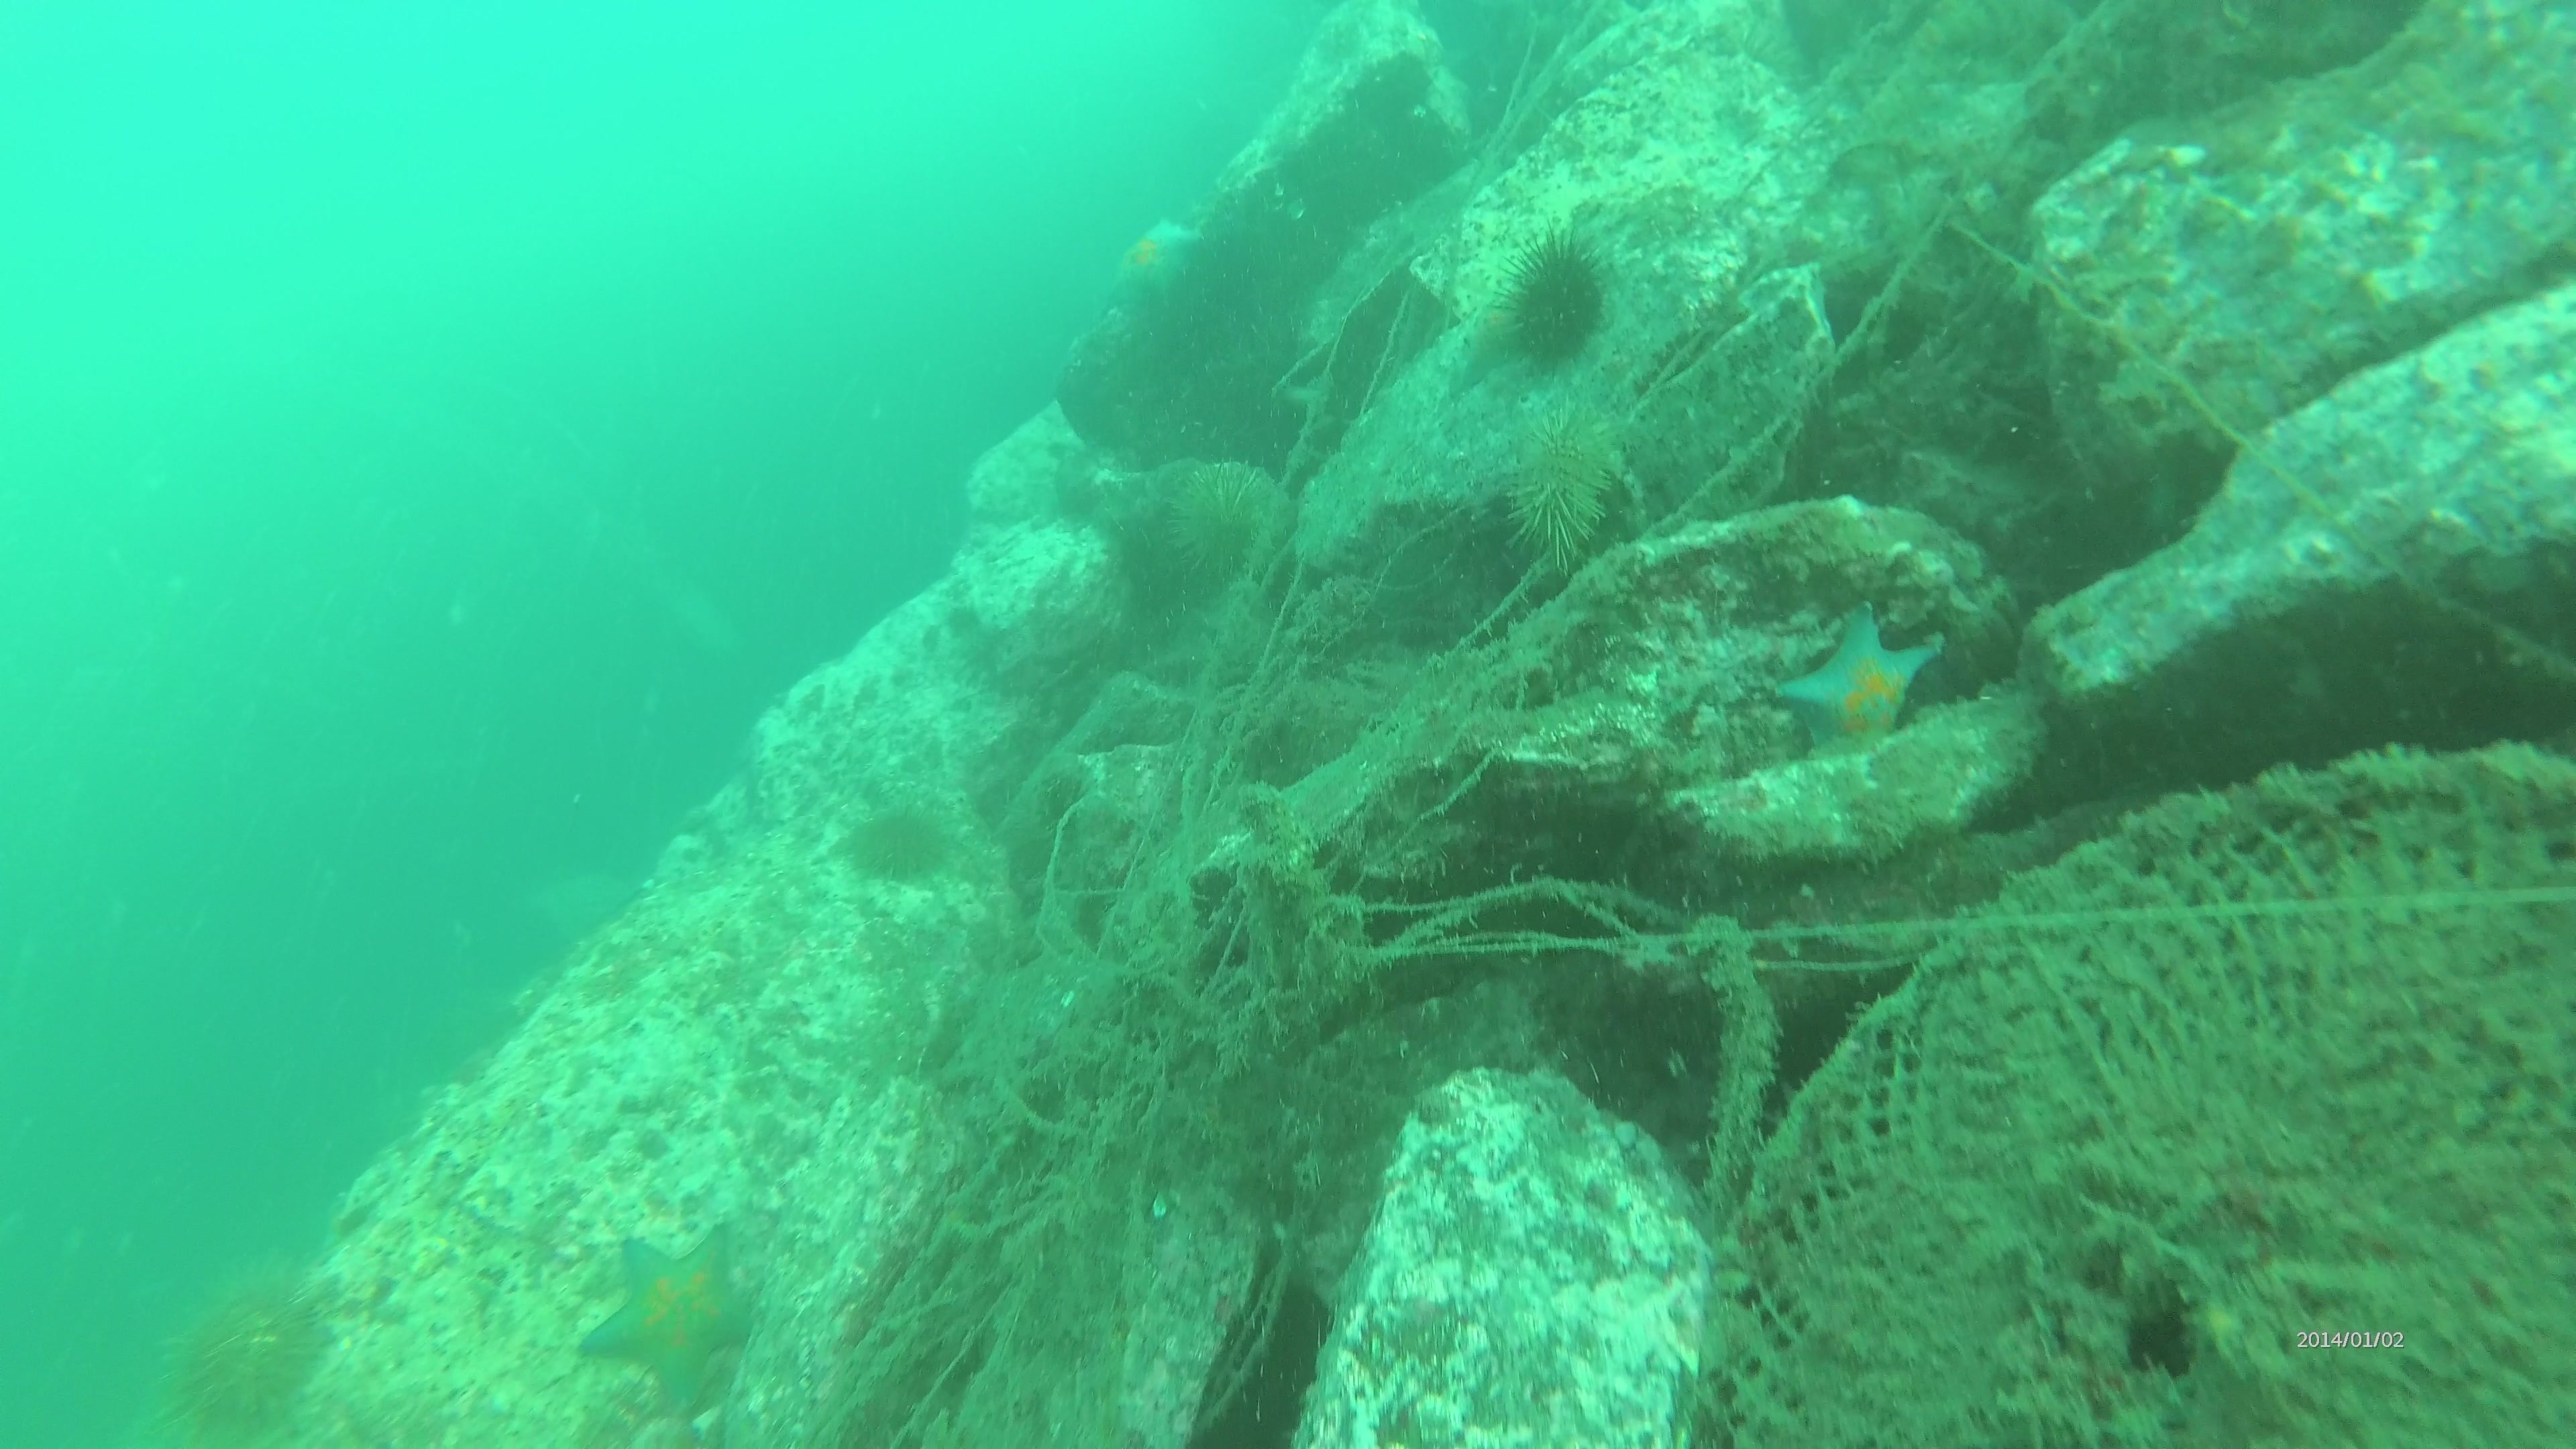echinus: (156, 1260, 338, 1438), (1490, 395, 1635, 571), (1145, 458, 1284, 605), (1491, 228, 1619, 377), (839, 794, 959, 892)
starfish: (577, 1221, 764, 1410), (1767, 600, 1948, 761), (1099, 209, 1207, 317)
